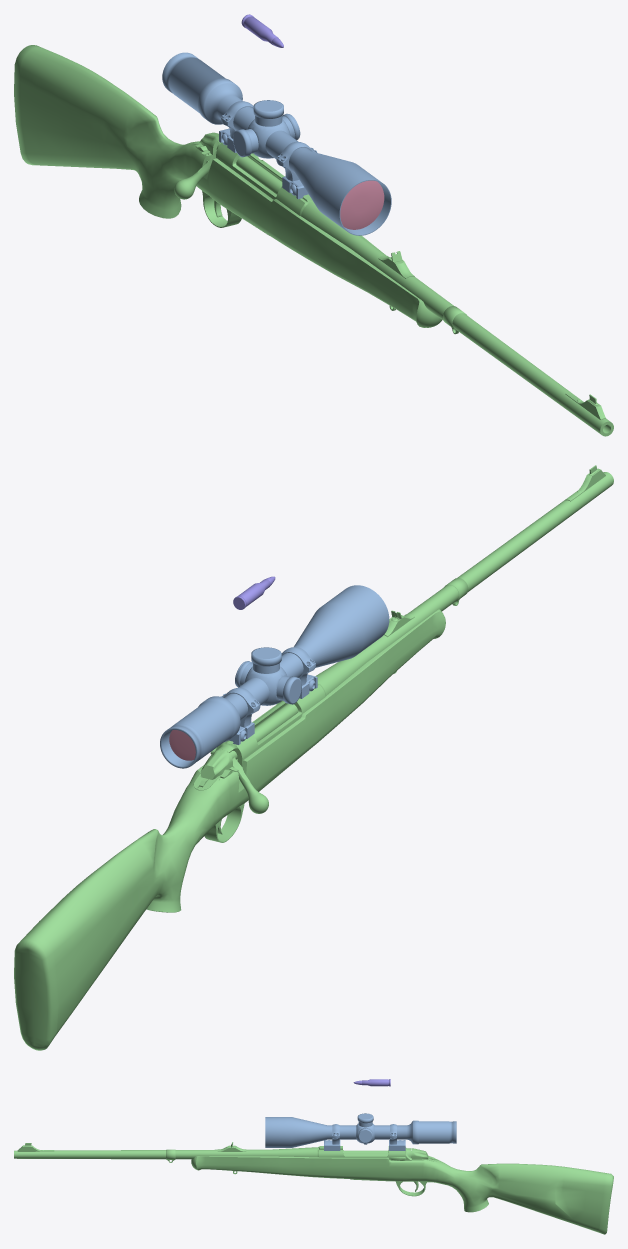
Rendered from WPN_Hunter85.FBX.
3 renders of one model, top to bottom at view 1: azimuth 30°, elevation 25°; view 2: azimuth 150°, elevation 25°; view 3: azimuth 270°, elevation 25°, orthographic. The views are drawn at different scales.
Visible parts, largest first — view 1: WPN_Hunter85, WPN_Hunter85_scope, WPN_Hunter85_scope_lense, WPN_Hunter85_bolt_handle, cal_308; view 2: WPN_Hunter85, WPN_Hunter85_scope, WPN_Hunter85_bolt_handle; view 3: WPN_Hunter85, WPN_Hunter85_scope, cal_308.
Part boxes in pixels (<box>): WPN_Hunter85: <box>14,45,613,436</box>; WPN_Hunter85_scope: <box>162,52,391,235</box>; WPN_Hunter85_scope_lense: <box>340,180,384,229</box>; WPN_Hunter85_bolt_handle: <box>174,143,282,199</box>; cal_308: <box>241,14,283,47</box>; WPN_Hunter85: <box>14,465,613,1050</box>; WPN_Hunter85_scope: <box>160,585,389,768</box>; WPN_Hunter85_bolt_handle: <box>229,703,298,813</box>; WPN_Hunter85: <box>14,1142,613,1234</box>; WPN_Hunter85_scope: <box>265,1113,456,1150</box>; cal_308: <box>353,1079,390,1086</box>.
Bounding box in the file's own units: 8.47 × 32.84 × 115.
